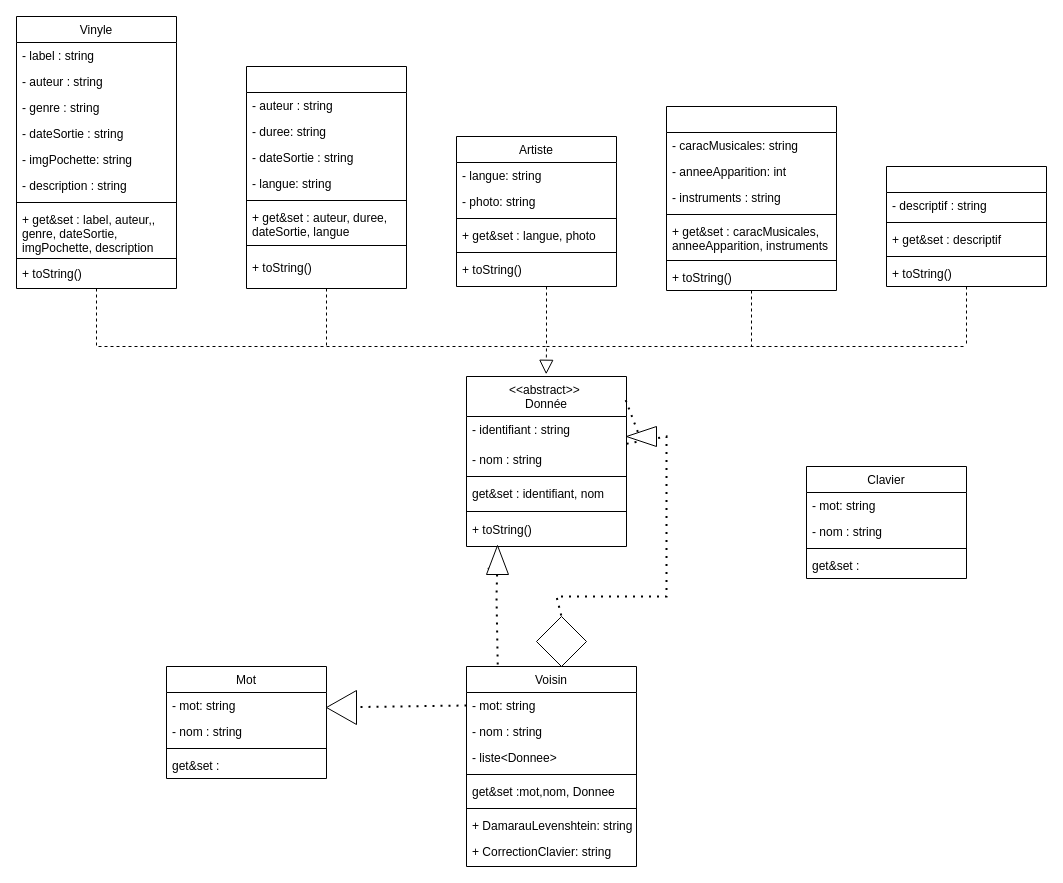
This 1063x883 diagram has some shape labels left out. Here are the shapes that lost their labels. From the top down, the box of each, then its label:
(246, 66, 406, 288): Titre
(666, 106, 836, 290): Genre
(886, 166, 1046, 286): Tag
